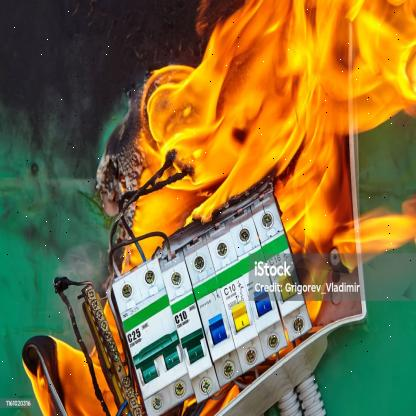fire: (22, 0, 416, 416)
smoke: (2, 0, 195, 281)
